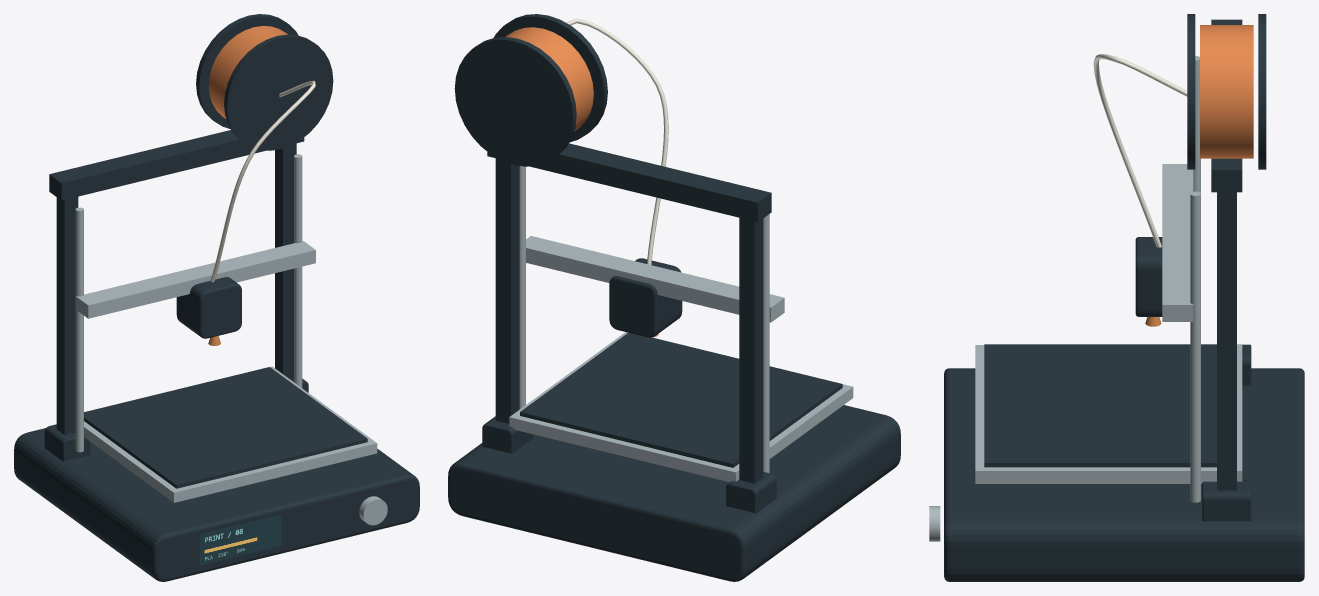
File: 3d-printer.glb
3 views of the same model, side by side, from view 1: azimuth 30°, elevation 25°; view 2: azimuth 150°, elevation 25°; view 3: azimuth 270°, elevation 25° (orthographic). The views are drawn at different scales.
Parts seen in each view (by area): view 1: 3d-printer; view 2: 3d-printer; view 3: 3d-printer.
Boxes of the visible parts, <box> form: 3d-printer: <box>14,14,419,581</box>; 3d-printer: <box>448,14,900,581</box>; 3d-printer: <box>929,14,1304,581</box>.
Size of the model in its own units: 0.905 by 1.33 by 0.8435.
Materials: 6 (1 with a texture image).
